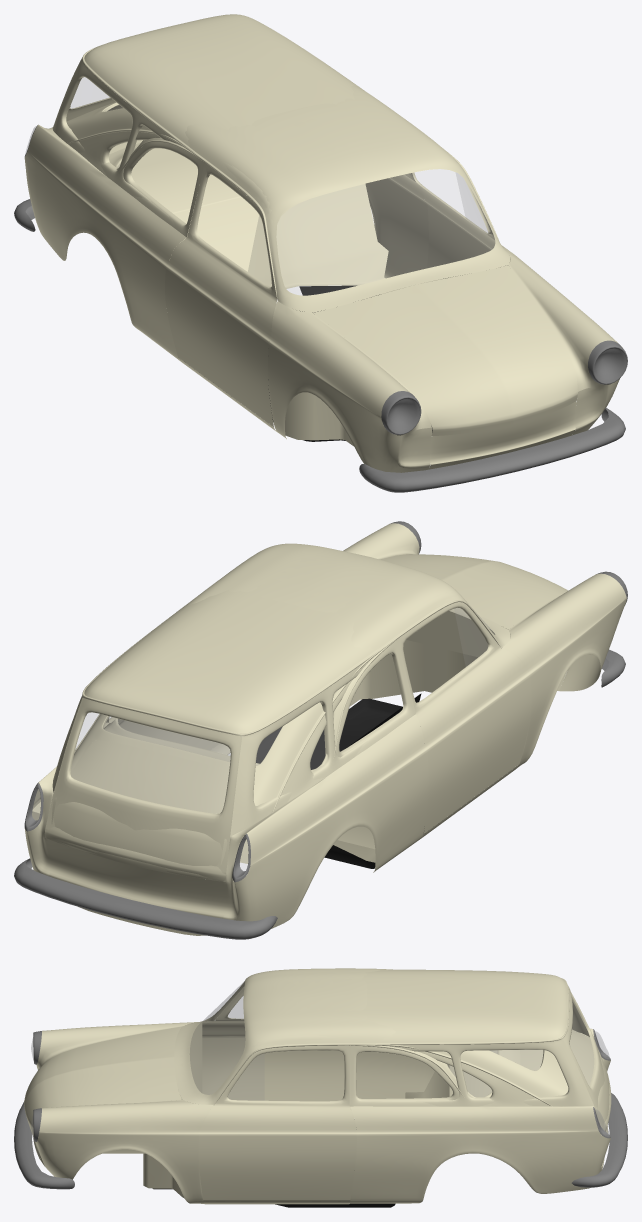
File: volkswagen-type3.glb
The picture shows the model from 3 angles, top to bottom: view 1: azimuth 30°, elevation 25°; view 2: azimuth 150°, elevation 25°; view 3: azimuth 270°, elevation 25°; orthographic projection. The views are drawn at different scales.
Visible parts, largest first — view 1: bonnet, roof_skin_square, roof_skin_fastback, rear_wing, windscreen, front_wing, door_left, body_boot_floor, roof_skin_notch, bumper_front, front_fascia, rear_window_panels_square (+6 smaller); view 2: roof_skin_square, rear_wing, roof_skin_fastback, door_left, boot_fastback, front_wing, rear_windscreen_square, boot_square, rear_fascia, bonnet, roof_skin_notch, bumper_rear (+14 smaller); view 3: door_left, rear_wing, roof_skin_square, front_wing, roof_skin_fastback, bonnet, rear_window_panels_square, windscreen, roof_skin_notch, bumper_rear, body_inner_front_well, rear_window_panels_fastback (+14 smaller).
Boxes of the visible parts, bbox=[...] form: bonnet: bbox=[313, 265, 577, 435]; roof_skin_square: bbox=[82, 14, 507, 311]; roof_skin_fastback: bbox=[66, 85, 510, 312]; rear_wing: bbox=[24, 124, 428, 361]; windscreen: bbox=[277, 169, 494, 294]; front_wing: bbox=[268, 247, 622, 472]; door_left: bbox=[165, 163, 510, 426]; body_boot_floor: bbox=[118, 148, 388, 288]; roof_skin_notch: bbox=[109, 103, 504, 303]; bumper_front: bbox=[359, 407, 625, 492]; front_fascia: bbox=[428, 401, 576, 469]; rear_window_panels_square: bbox=[52, 57, 415, 203]; roof_skin_square: bbox=[82, 590, 507, 736]; rear_wing: bbox=[24, 714, 428, 928]; roof_skin_fastback: bbox=[46, 543, 510, 882]; door_left: bbox=[167, 602, 531, 833]; boot_fastback: bbox=[53, 740, 229, 879]; front_wing: bbox=[343, 523, 626, 767]; rear_windscreen_square: bbox=[71, 713, 230, 812]; boot_square: bbox=[44, 698, 241, 881]; rear_fascia: bbox=[48, 839, 226, 935]; bonnet: bbox=[380, 554, 568, 629]; roof_skin_notch: bbox=[104, 551, 505, 771]; bumper_rear: bbox=[14, 858, 277, 939]; door_left: bbox=[198, 987, 356, 1199]; rear_wing: bbox=[349, 1028, 610, 1203]; roof_skin_square: bbox=[177, 969, 569, 1103]; front_wing: bbox=[36, 1021, 213, 1203]; roof_skin_fastback: bbox=[174, 968, 602, 1123]; bonnet: bbox=[24, 1026, 181, 1131]; rear_window_panels_square: bbox=[355, 1001, 593, 1106]; windscreen: bbox=[190, 981, 244, 1094]; roof_skin_notch: bbox=[203, 978, 520, 1104]; bumper_rear: bbox=[571, 1093, 627, 1187]; body_inner_front_well: bbox=[103, 1022, 202, 1198]; rear_window_panels_fastback: bbox=[369, 1051, 536, 1106].
Bounding box in the file's own units: 1.6 × 1.32 × 4.2.
